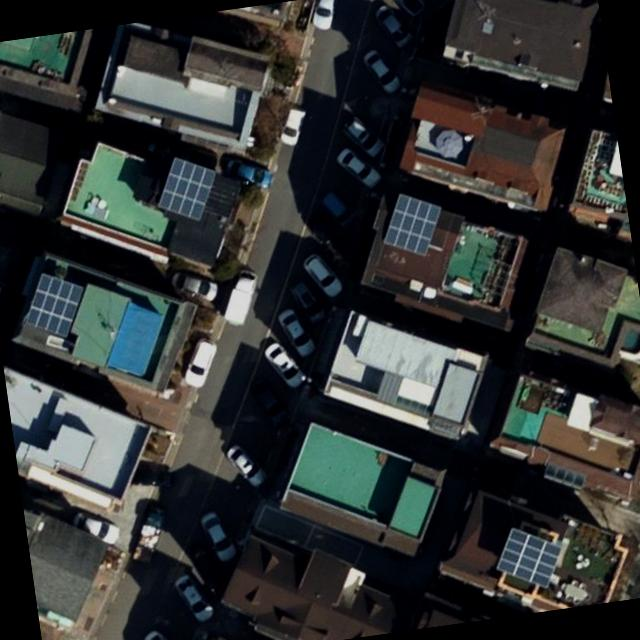solar: (488, 518, 570, 595), (376, 186, 452, 266), (150, 147, 226, 226), (19, 265, 94, 344)
